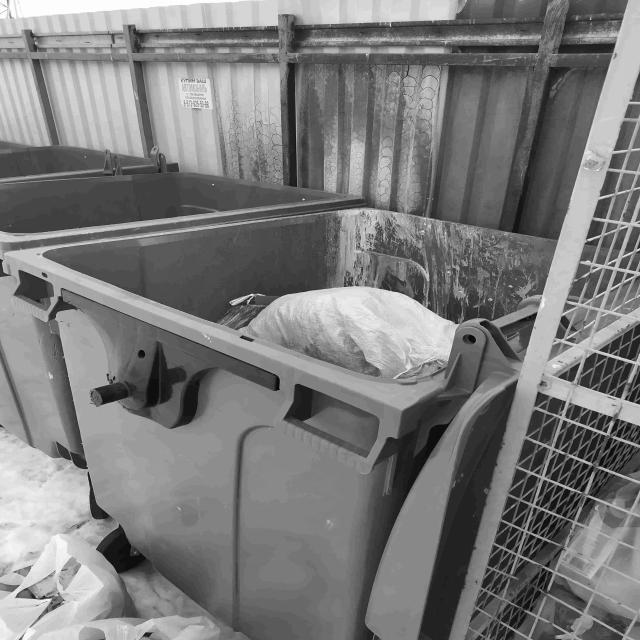bin: (0, 140, 558, 640)
plastic: (0, 534, 220, 640), (217, 286, 460, 380)
